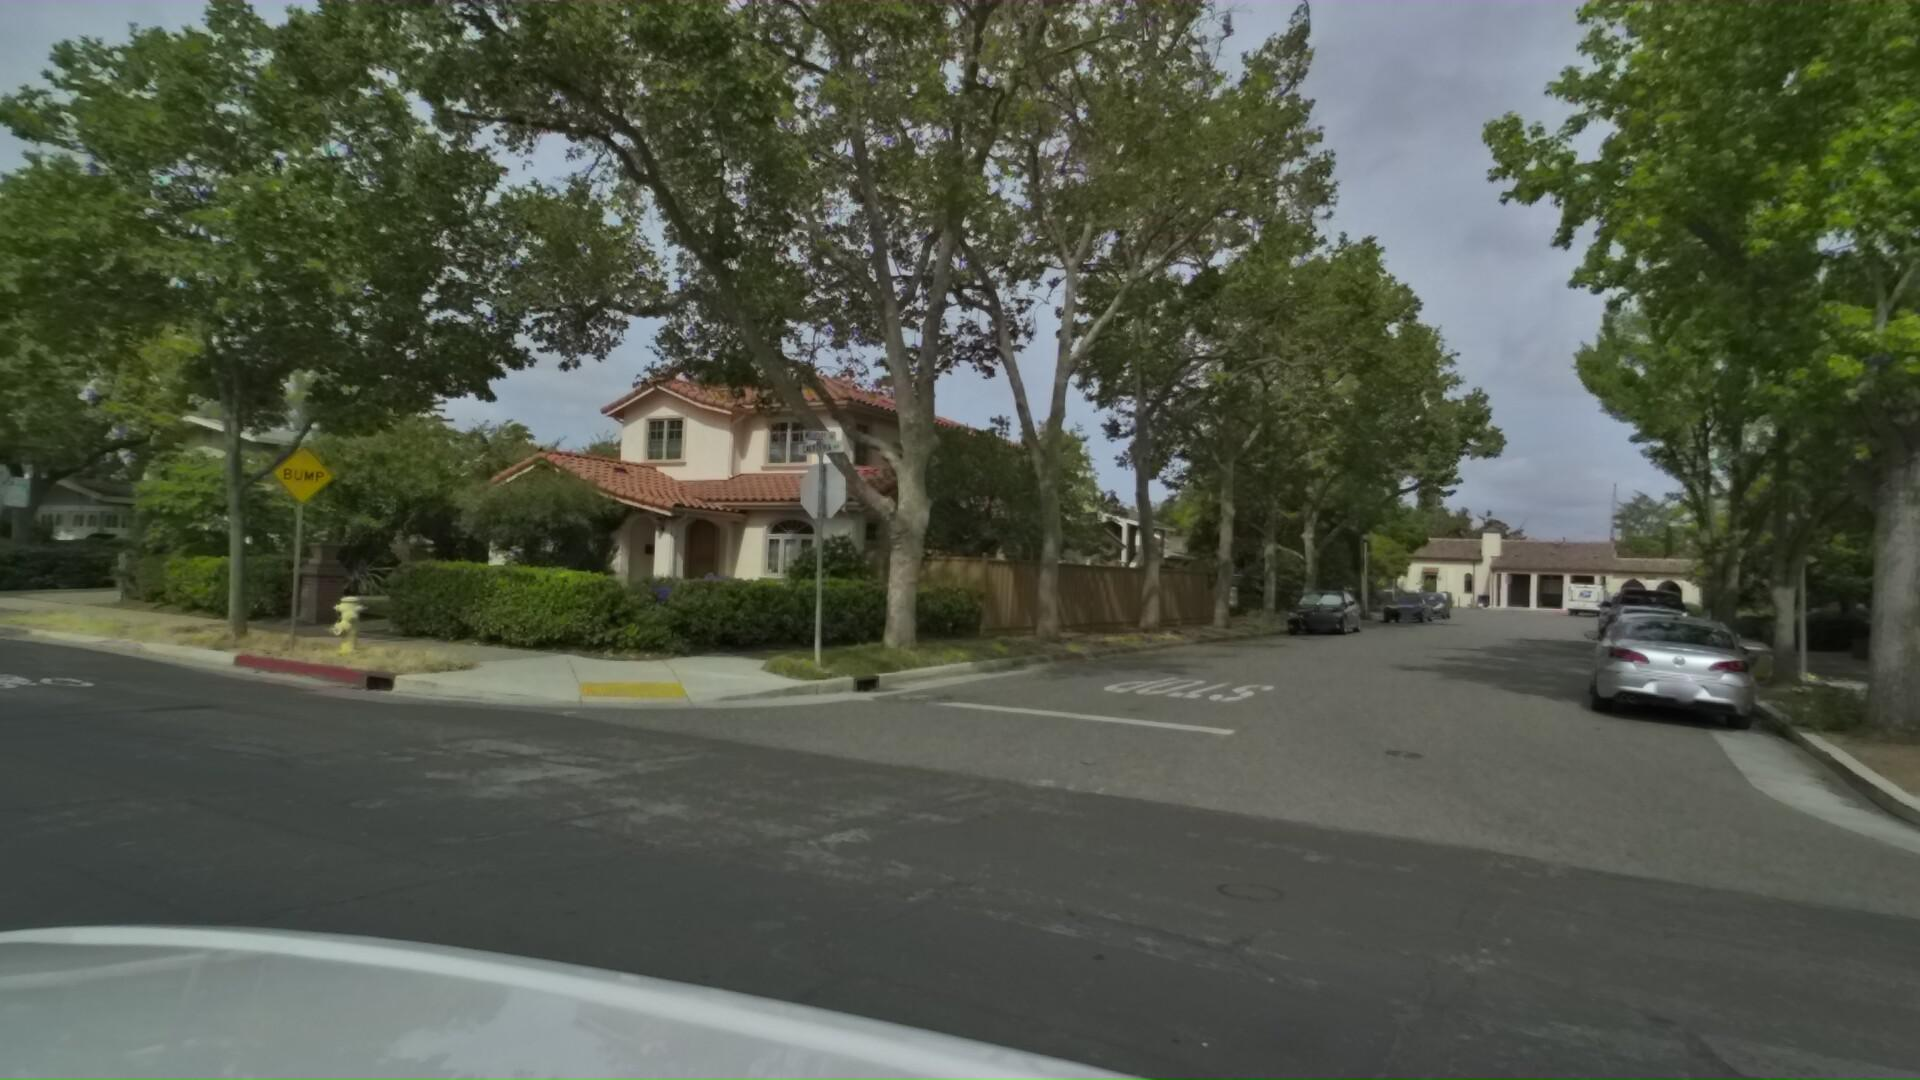car: (1553, 605, 1733, 737), (1578, 579, 1680, 665), (1576, 599, 1677, 678), (1114, 567, 1237, 616), (1265, 585, 1349, 637), (1369, 592, 1422, 626), (1396, 589, 1443, 618)
truck: (1555, 579, 1600, 616)
